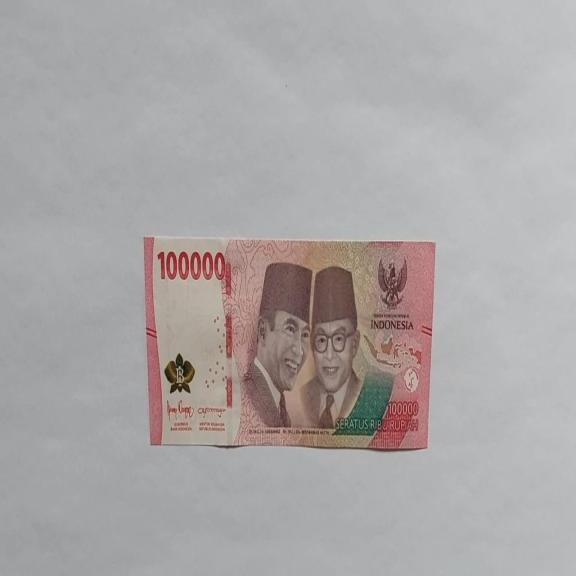Kertas: (143, 235, 437, 451), (156, 248, 226, 282)
